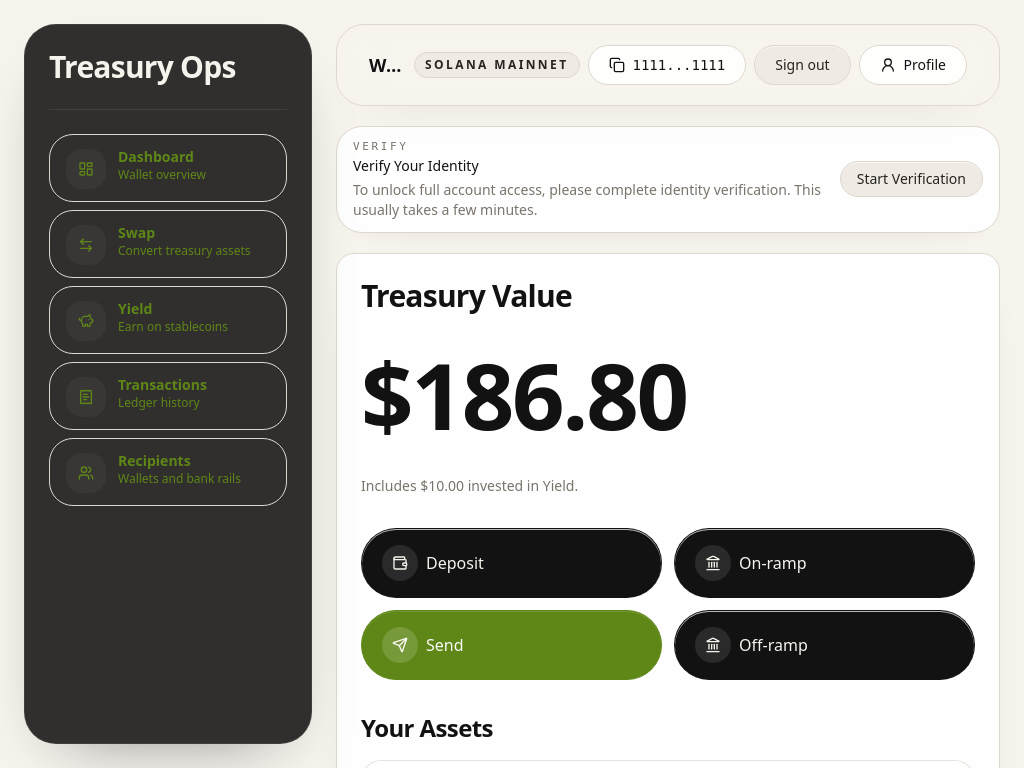
it: Dashboard hardening › shows a KYC required error toast instead of opening the off-ramp drawer when verification is incomplete
The image size is (1024, 768).
Click the button "Off-ramp" at (713, 644), box [674,610,975,680]
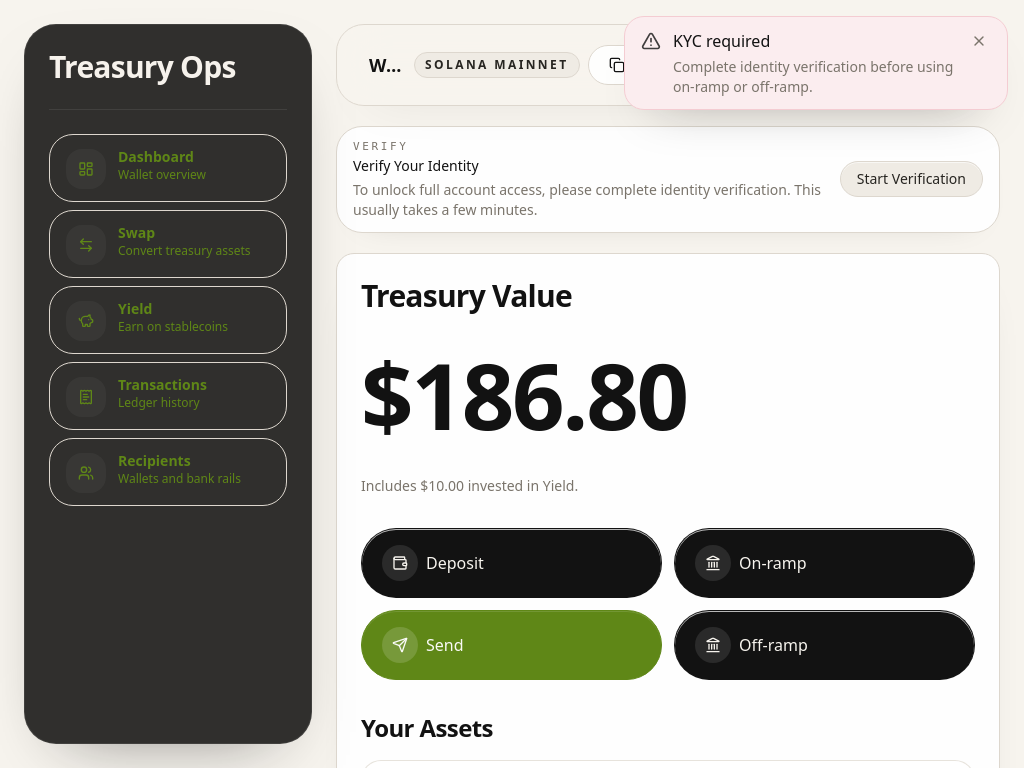
Expected: the text "KYC required" is shown, [673,30,770,52]
Expected: the text "Complete identity verification before using on-ramp or off-ramp." is shown, [673,57,955,97]
